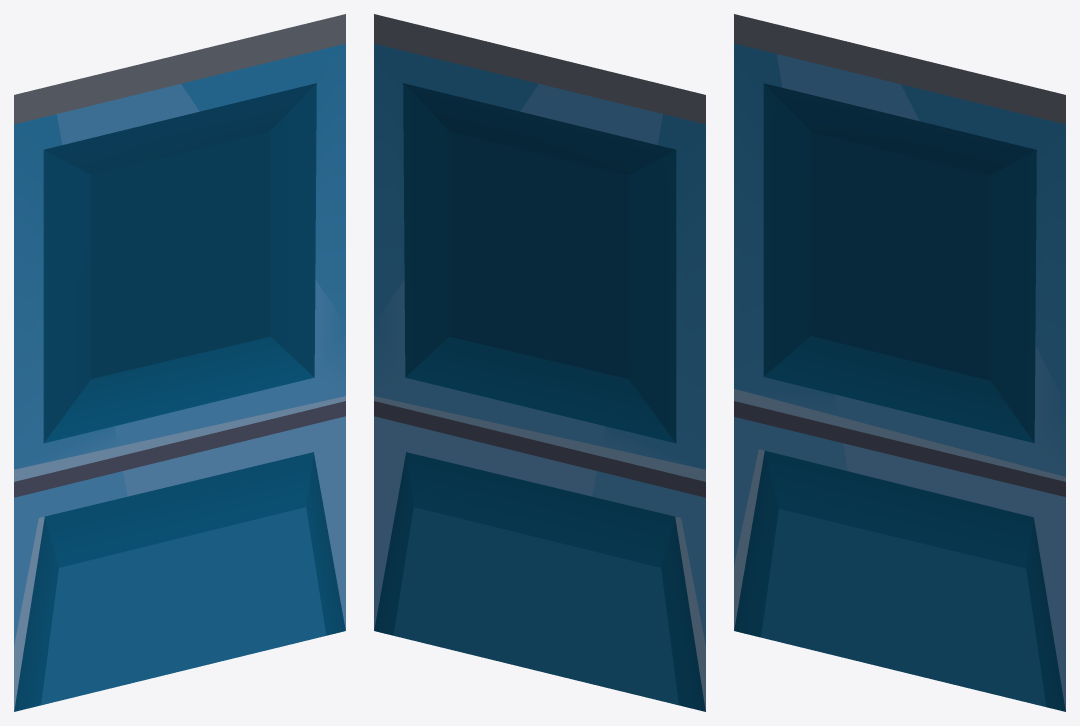
The model's file is yetiScannerBG.glb.
3 renders of one model, left to right at view 1: azimuth 30°, elevation 25°; view 2: azimuth 150°, elevation 25°; view 3: azimuth 330°, elevation 25°, orthographic.
Visible parts, largest first — view 1: yetiScannerBG; view 2: yetiScannerBG; view 3: yetiScannerBG.
Part boxes in pixels (x1,y1,x2,y2): yetiScannerBG: (14, 14, 345, 711); yetiScannerBG: (374, 14, 705, 711); yetiScannerBG: (734, 14, 1065, 711).
Bounding box in the file's own units: 24.65 × 43.83 × 7.63e-08.
